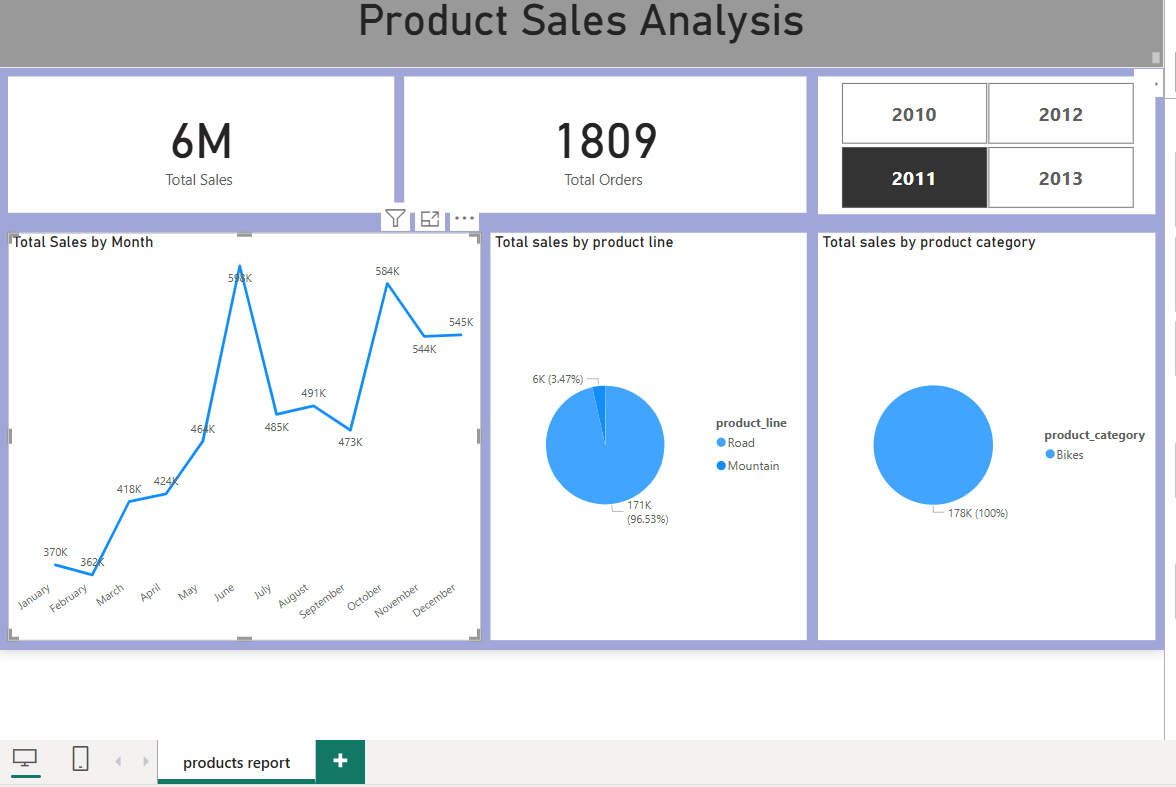

Layout of this report page (visuals, bound fields, positions):
{"tool":"powerbi","page":{"name":"products report","canvas":[1280,720],"ordinal":0},"visuals":[{"type":"textbox","title":"Product Sales Analysis","box":[0,0,1280.3,81],"z":0},{"type":"lineChart","fields":{"Y":["Sum(fact_sales.sales_amount)"],"Category":["fact_sales.order_date.Variation.Date Hierarchy.Month"]},"box":[11,262.1,518.7,447.3],"z":3},{"type":"pieChart","fields":{"Category":["dim_product.product_line"],"Y":["Sum(fact_sales.sales_amount)"]},"box":[540.7,262.1,347.2,447.3],"z":4},{"type":"pieChart","fields":{"Y":["Sum(fact_sales.sales_amount)"],"Category":["dim_product.product_category"]},"box":[900.2,262.1,370.5,447.3],"z":5},{"type":"card","fields":{"Values":["Sum(fact_sales.sales_amount)"]},"box":[11,90.6,424,149.6],"z":6},{"type":"card","fields":{"Values":["Sum(fact_sales.sales_quantity)"]},"box":[446,90.6,441.9,149.6],"z":7},{"type":"slicer","fields":{"Values":["fact_sales.order_date.Variation.Date Hierarchy.Year"]},"box":[900.2,90.6,370.5,150.9],"z":8}]}

Visuals, with their boxes in screenshot pixels (x1, y1, x2, y2):
"Product Sales Analysis" textbox: Rect(0, 0, 1160, 67)
lineChart - Sum(fact_sales.sales_amount) x fact_sales.order_date.Variation.Date Hierarchy.Month: Rect(10, 231, 480, 637)
pieChart - dim_product.product_line x Sum(fact_sales.sales_amount): Rect(490, 231, 804, 637)
pieChart - Sum(fact_sales.sales_amount) x dim_product.product_category: Rect(816, 231, 1151, 637)
card - Sum(fact_sales.sales_amount): Rect(10, 76, 394, 212)
card - Sum(fact_sales.sales_quantity): Rect(404, 76, 804, 212)
slicer - fact_sales.order_date.Variation.Date Hierarchy.Year: Rect(816, 76, 1151, 213)
